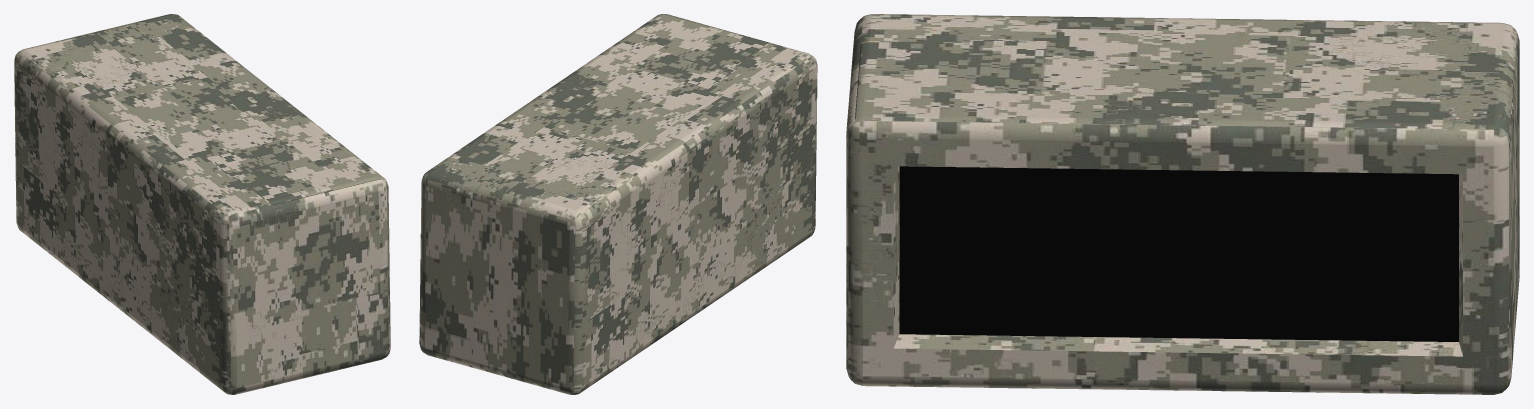
File: screen.fbx
The picture shows the model from 3 angles, left to right: view 1: azimuth 30°, elevation 25°; view 2: azimuth 150°, elevation 25°; view 3: azimuth 270°, elevation 25°; orthographic projection. The views are drawn at different scales.
Visible parts, largest first — view 1: Screen; view 2: Screen; view 3: Screen.
Boxes of the visible parts, x1=… form: Screen: x1=14, y1=14, x2=390, y2=394; Screen: x1=419, y1=14, x2=817, y2=394; Screen: x1=846, y1=14, x2=1519, y2=394.
Size of the model in its own units: 42.01 by 41.53 by 93.56.
